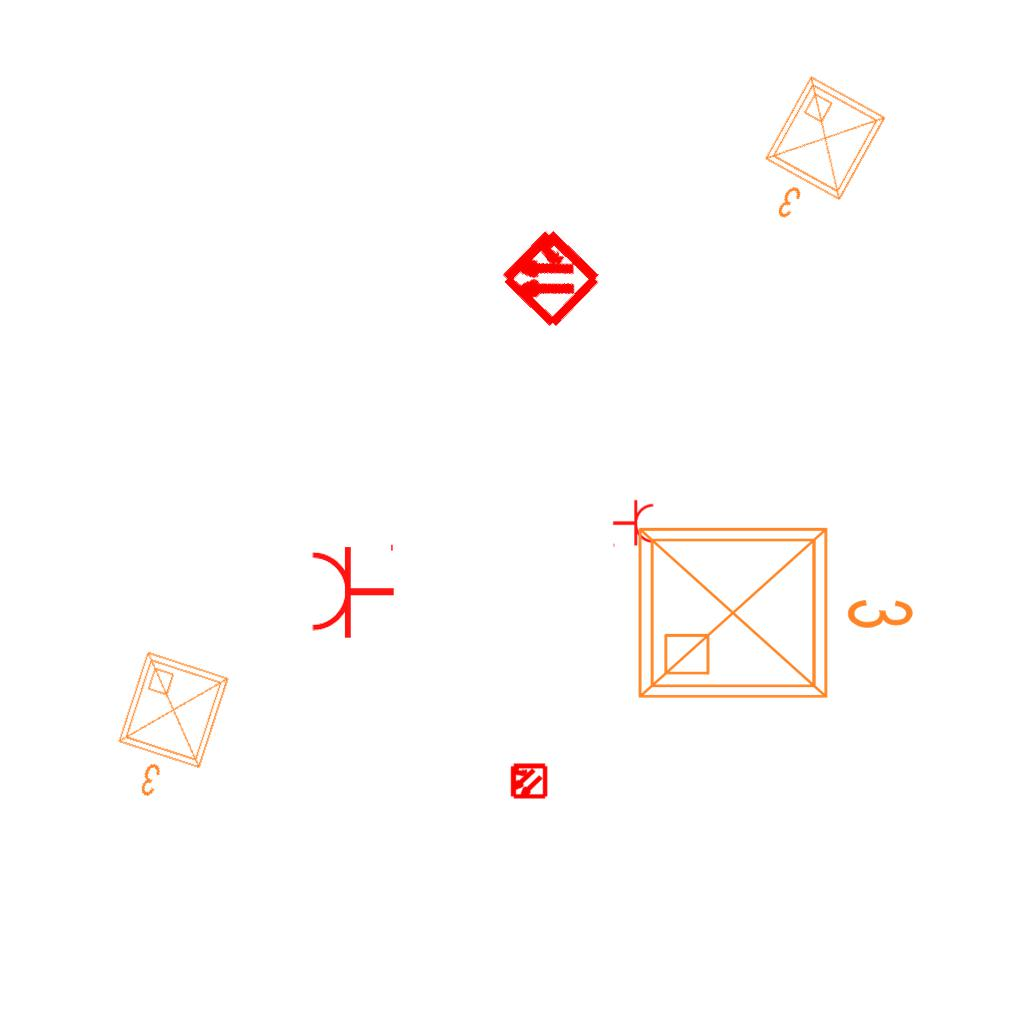Einbaudownlights_LED_Konferenzraeume: (624, 505, 924, 713), (735, 66, 899, 248), (96, 642, 242, 818)
OT_Multisensormelder_(Kombination_RMO_WMD): (469, 196, 630, 357), (500, 753, 556, 809)
Schukosteckdose_einfach: (309, 540, 396, 640), (612, 499, 655, 549)
